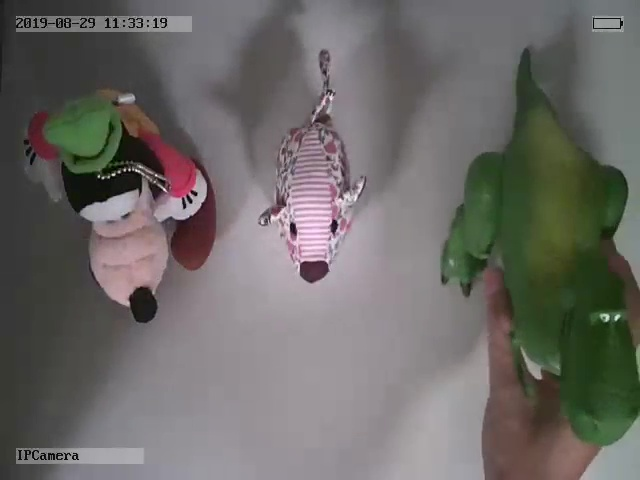goofy: (19, 88, 217, 324)
pig: (257, 48, 367, 284)
rex: (439, 47, 640, 448)
